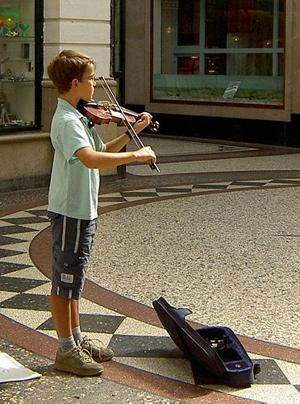person: (48, 49, 158, 378)
